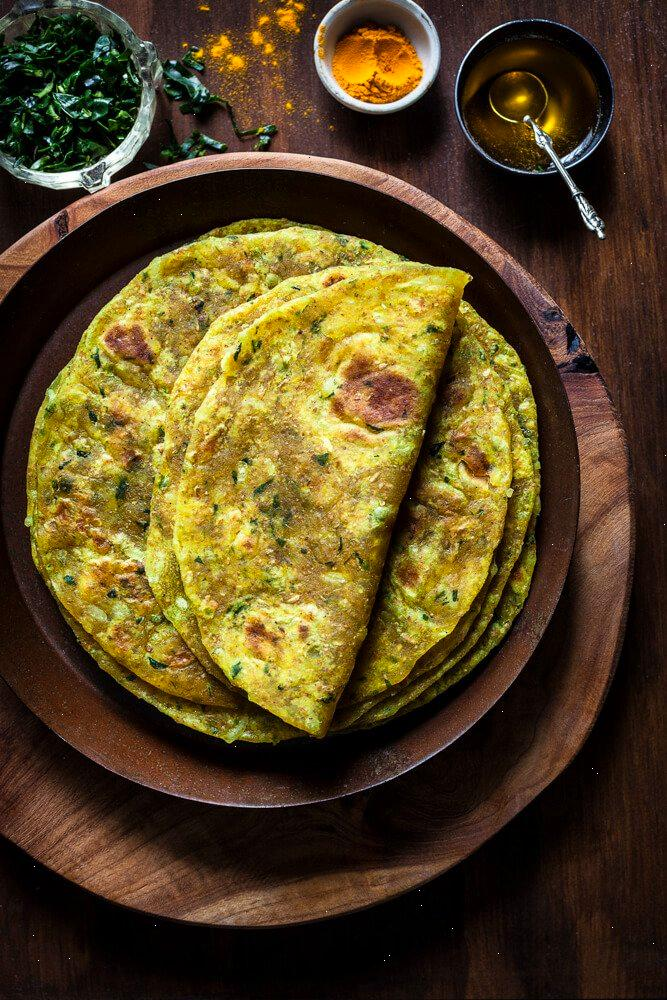thepla: (38, 263, 539, 712)
